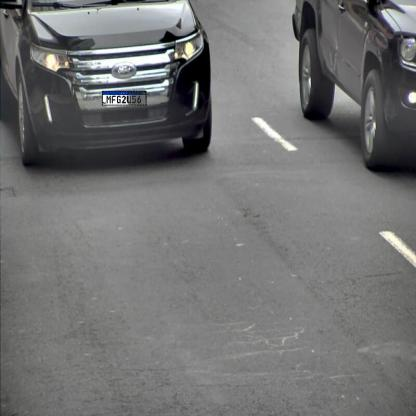PlacaM: (102, 91, 147, 105)
